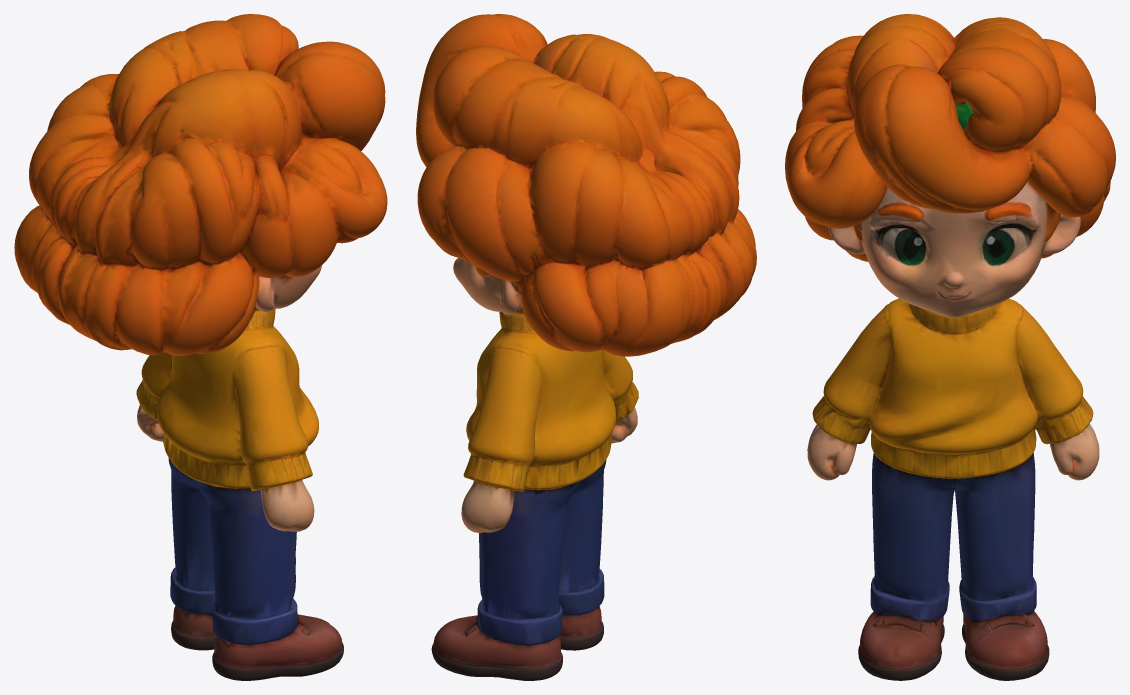
File: visitor.glb
3 views of the same model, side by side, from view 1: azimuth 30°, elevation 25°; view 2: azimuth 150°, elevation 25°; view 3: azimuth 270°, elevation 25° (orthographic).
Visible parts, largest first — view 1: tripo_node_c883ad4e-a418-413b-bff5-cd2cdd5f239b; view 2: tripo_node_c883ad4e-a418-413b-bff5-cd2cdd5f239b; view 3: tripo_node_c883ad4e-a418-413b-bff5-cd2cdd5f239b.
Boxes of the visible parts, x1,y1,x2,y2 form: tripo_node_c883ad4e-a418-413b-bff5-cd2cdd5f239b: [14, 14, 387, 680]; tripo_node_c883ad4e-a418-413b-bff5-cd2cdd5f239b: [416, 14, 756, 680]; tripo_node_c883ad4e-a418-413b-bff5-cd2cdd5f239b: [785, 14, 1115, 680].
Size of the model in its own units: 0.5438 by 1 by 0.4881.
1 material, 1 textured.
